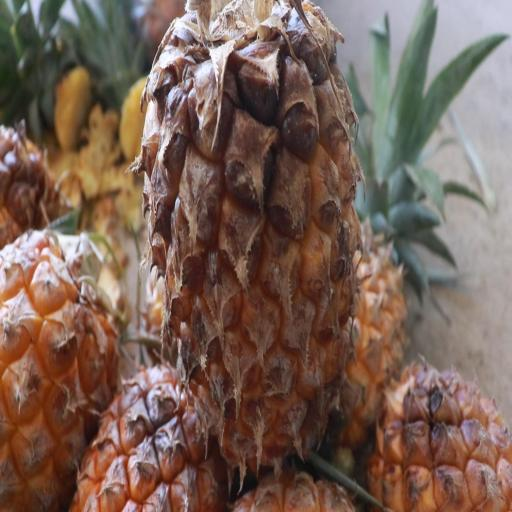Pineapple - v8 v1: (133, 0, 360, 473), (0, 227, 123, 512), (64, 336, 228, 512), (361, 359, 512, 512)
